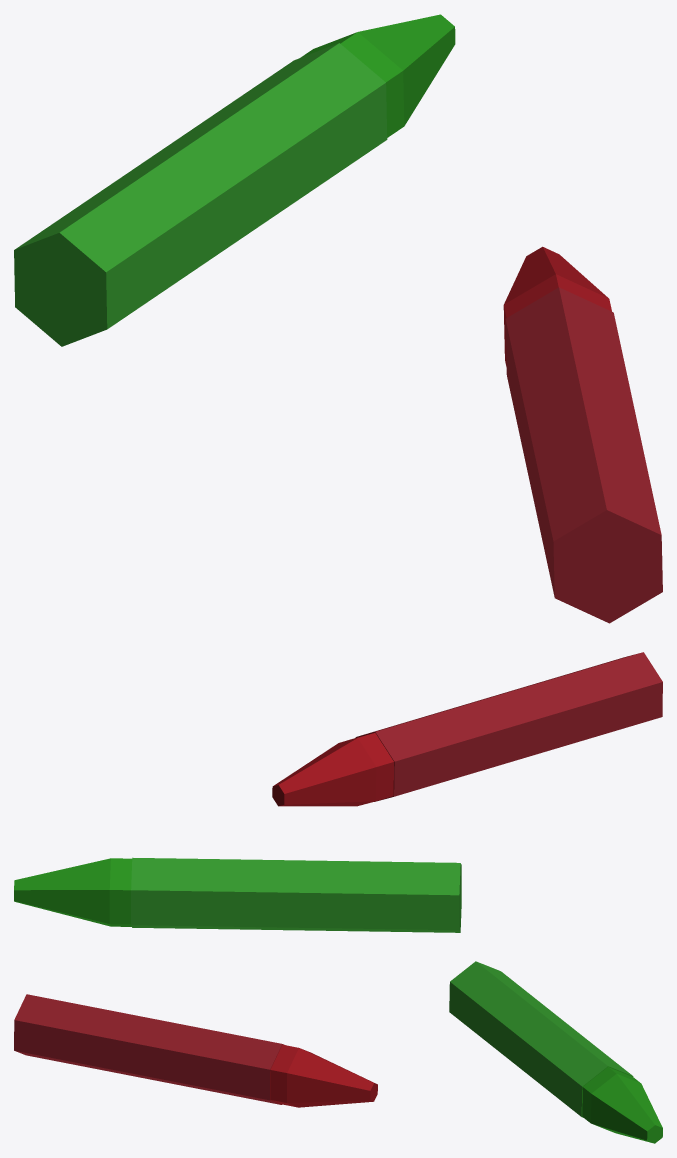
File: crayon.fbx
3 renders of one model, top to bottom at view 1: azimuth 30°, elevation 25°; view 2: azimuth 150°, elevation 25°; view 3: azimuth 270°, elevation 25°, orthographic. The views are drawn at different scales.
Visible parts, largest first — view 1: Cylinder, Cylinder.001; view 2: Cylinder, Cylinder.001; view 3: Cylinder.001, Cylinder.
Part boxes in pixels (<box>): Cylinder: <box>14,14,455,346</box>; Cylinder.001: <box>503,246,662,623</box>; Cylinder: <box>14,857,461,932</box>; Cylinder.001: <box>272,652,662,806</box>; Cylinder.001: <box>14,994,377,1107</box>; Cylinder: <box>449,961,662,1143</box>.
Bounding box in the file's own units: 13.33 × 2.51 × 24.28.
